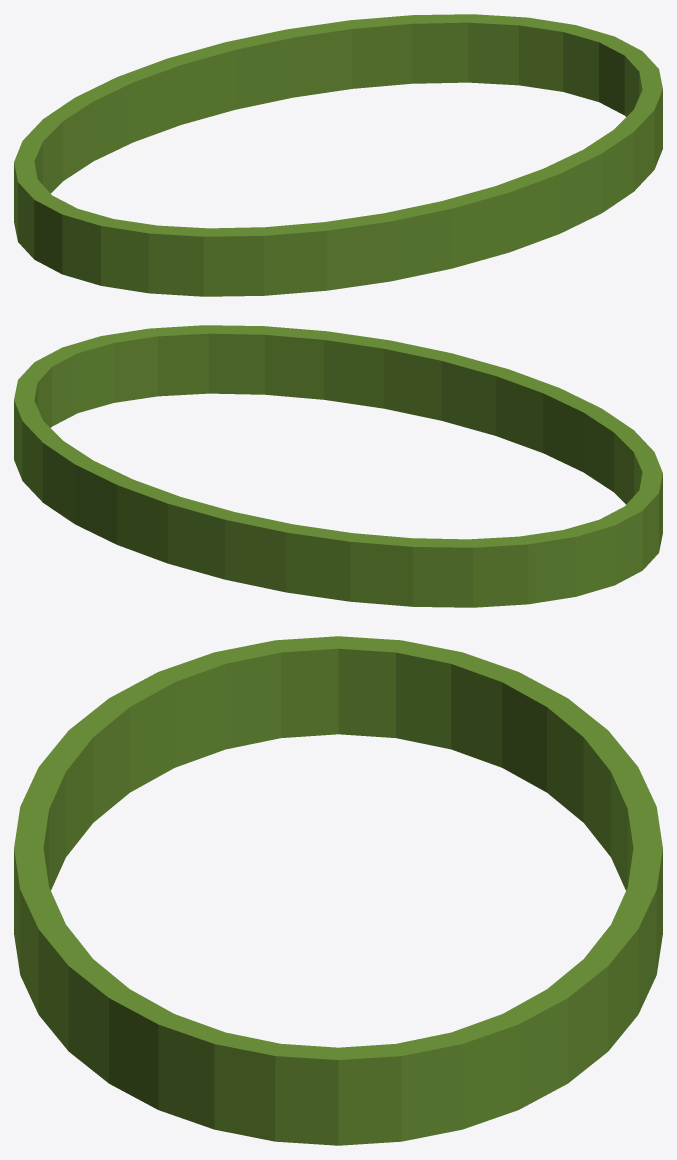
The model's file is ellipse.dae.
3 renders of one model, top to bottom at view 1: azimuth 30°, elevation 25°; view 2: azimuth 150°, elevation 25°; view 3: azimuth 270°, elevation 25°, orthographic. The views are drawn at different scales.
Parts seen in each view (by area): view 1: Ellipse; view 2: Ellipse; view 3: Ellipse.
Boxes of the visible parts, <box> form: Ellipse: <box>14,14,662,296</box>; Ellipse: <box>14,325,662,607</box>; Ellipse: <box>14,636,662,1145</box>.
Size of the model in its own units: 5.31 by 3.43 by 0.5.
